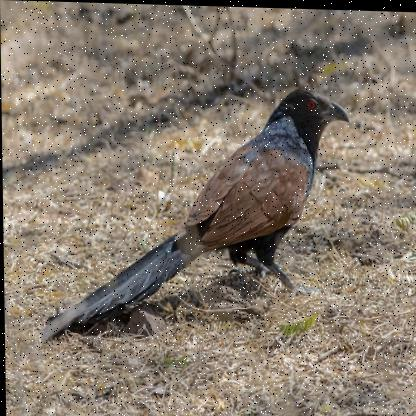Burung: (35, 79, 351, 350)
